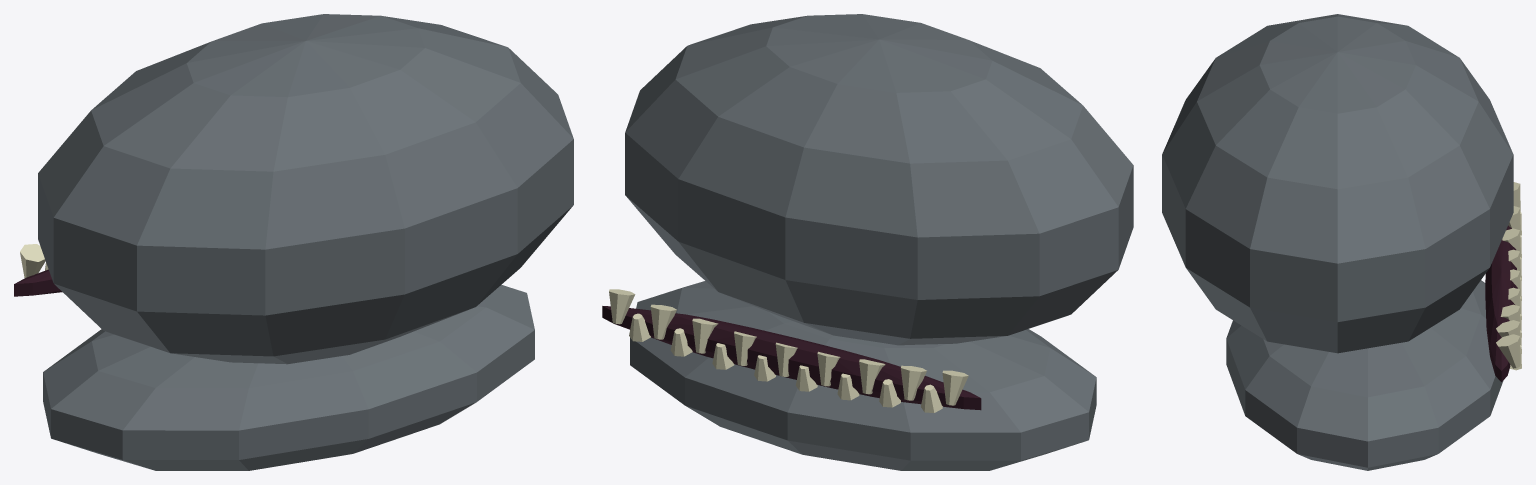
File: devourer_mouth_closed.obj
3 views of the same model, side by side, from view 1: azimuth 30°, elevation 25°; view 2: azimuth 150°, elevation 25°; view 3: azimuth 270°, elevation 25° (orthographic). The views are drawn at different scales.
Visible parts, largest first — view 1: devourer_mouth_closed; view 2: devourer_mouth_closed; view 3: devourer_mouth_closed.
Boxes of the visible parts, x1=… form: devourer_mouth_closed: x1=14, y1=14, x2=573, y2=470; devourer_mouth_closed: x1=602, y1=14, x2=1133, y2=470; devourer_mouth_closed: x1=1162, y1=14, x2=1521, y2=470.
Size of the model in its own units: 1.03 by 0.79 by 0.7186.
